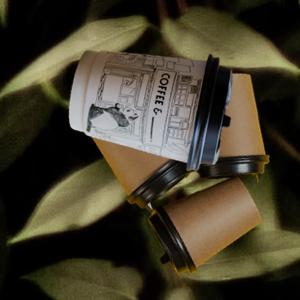cup: (68, 50, 235, 174)
